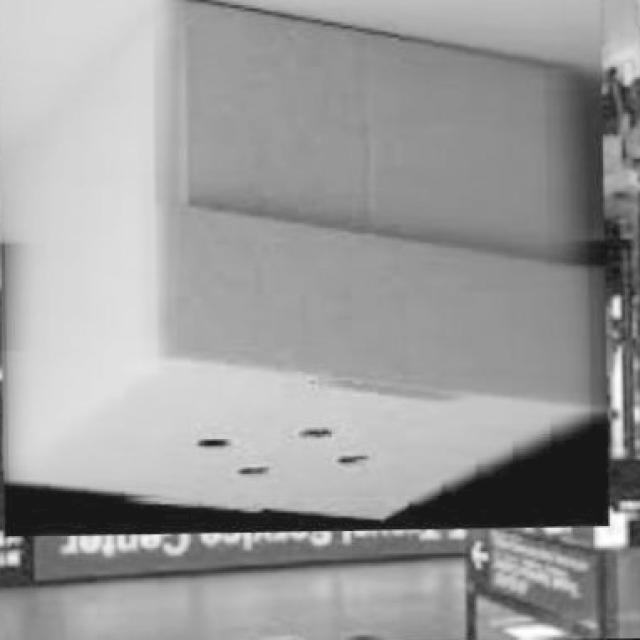box: (0, 1, 620, 544)
